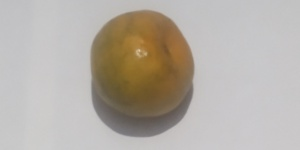BAD: (90, 11, 193, 118)
